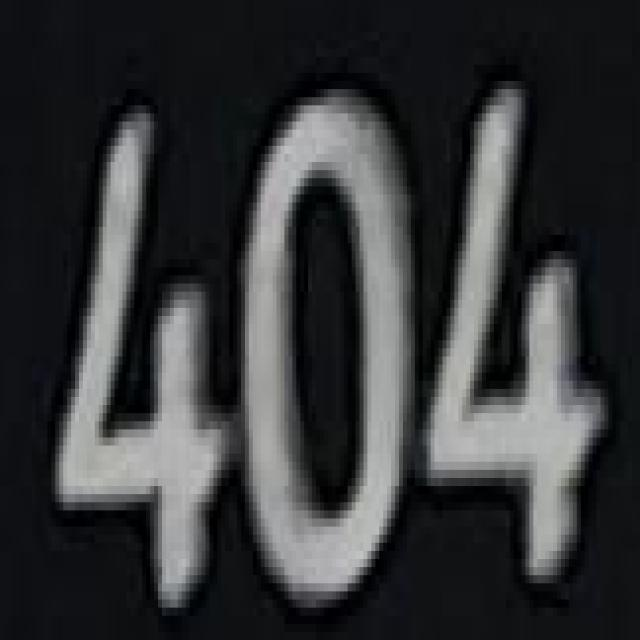character: (47, 96, 238, 615), (422, 80, 608, 589), (241, 90, 415, 608)
